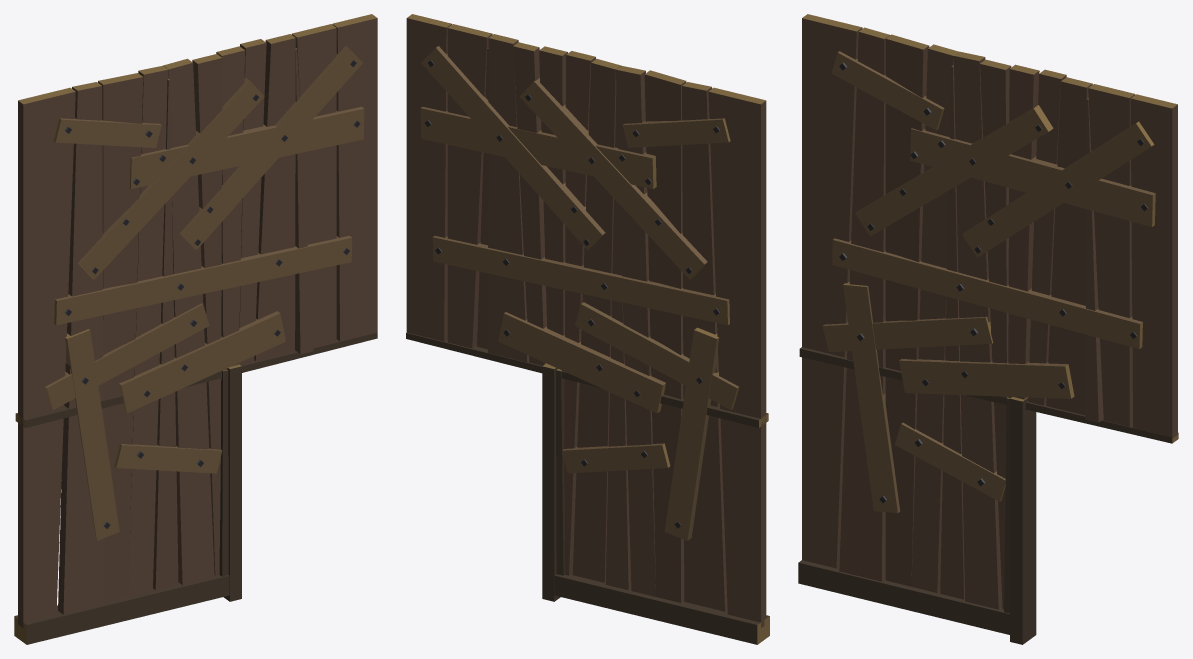
The model's file is Wall_1J_Door_4mx6m.fbx.
3 renders of one model, left to right at view 1: azimuth 30°, elevation 25°; view 2: azimuth 150°, elevation 25°; view 3: azimuth 330°, elevation 25°, orthographic. The views are drawn at different scales.
Parts seen in each view (by area): view 1: pCube2416; view 2: pCube2416; view 3: pCube2416.
Boxes of the visible parts, x1,y1,x2,y2 form: pCube2416: (14,14,377,644); pCube2416: (406,14,769,644); pCube2416: (798,14,1178,644).
Size of the model in its own units: 400 by 588 by 25.41.
